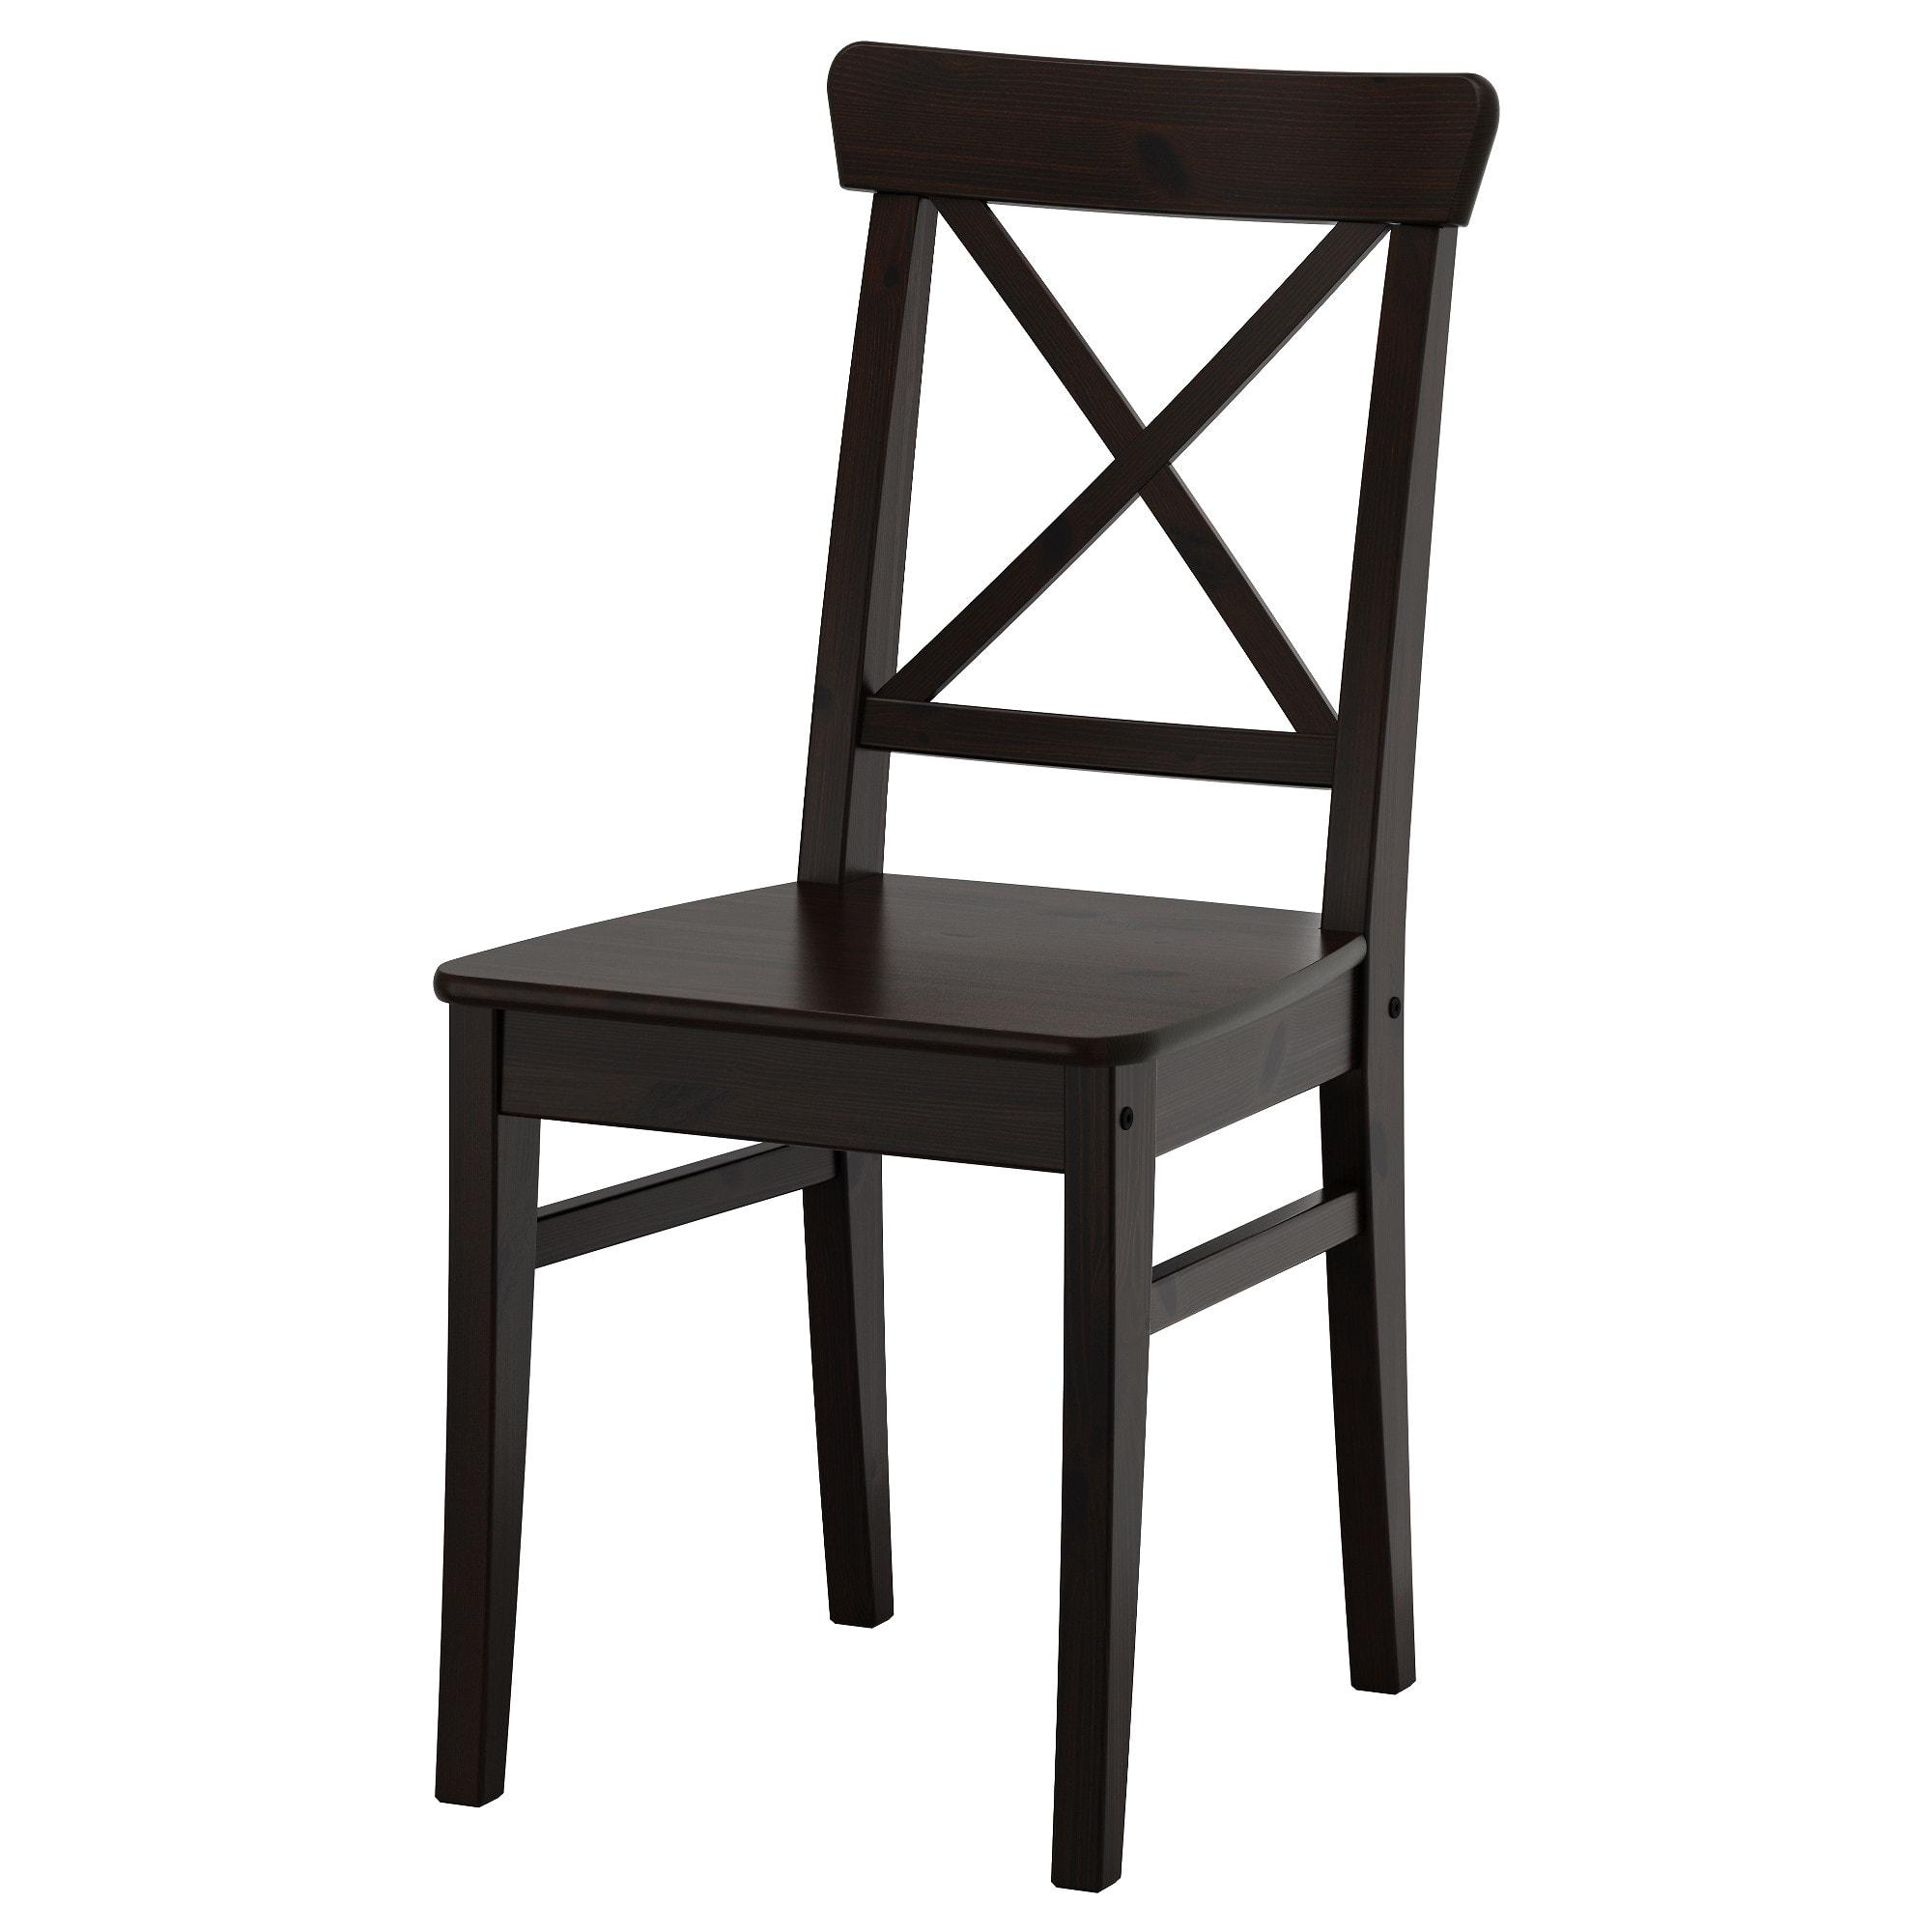chair: (341, 35, 1674, 1925)
